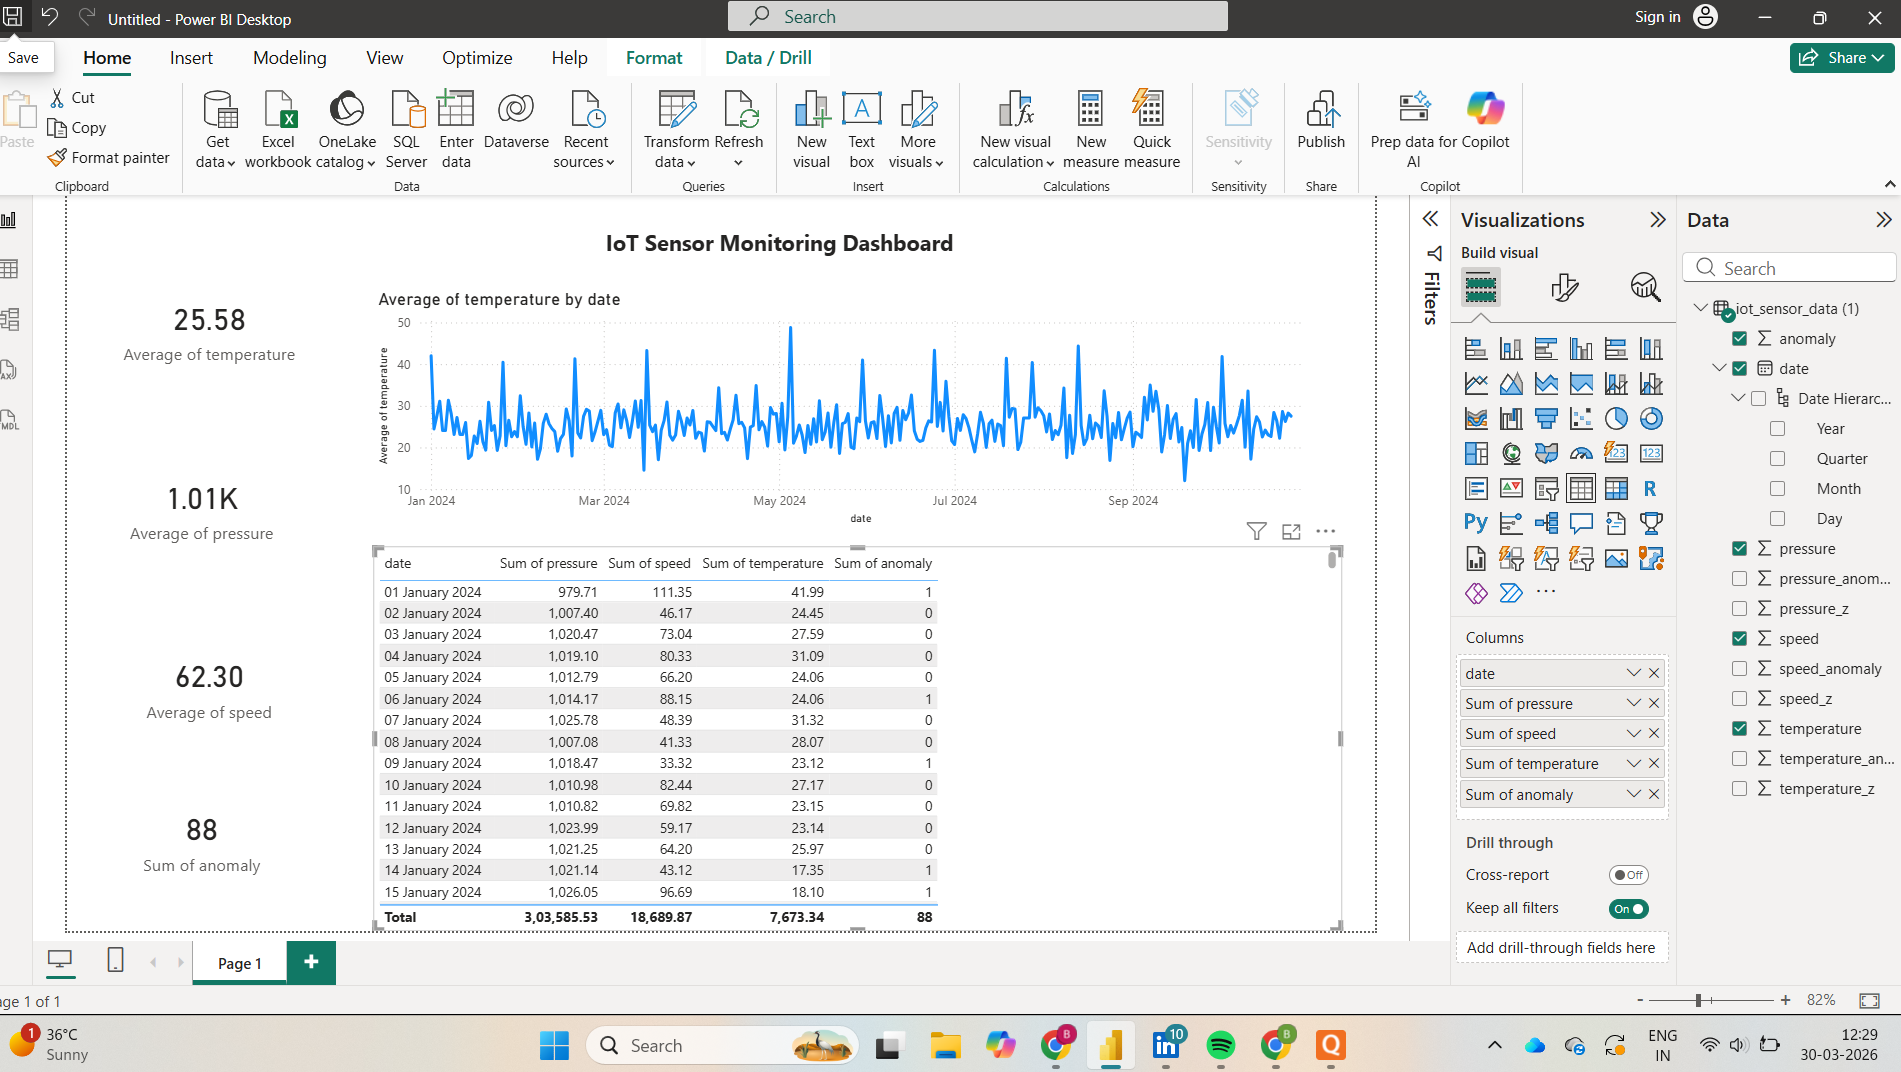

The dashboard page shown, as its layout file describes it:
{"tool":"powerbi","page":{"name":"Page 1","canvas":[1280,720],"ordinal":0},"visuals":[{"type":"textbox","box":[258,27.4,679.2,104.3],"z":4003},{"type":"card","fields":{"Values":["Avg(iot_sensor_data (1).temperature)"]},"box":[31.8,59.9,215.2,141.8],"z":4004},{"type":"card","fields":{"Values":["Avg(iot_sensor_data (1).pressure)"]},"box":[24.5,231.1,215.2,150.4],"z":4005},{"type":"card","fields":{"Values":["Avg(iot_sensor_data (1).speed)"]},"box":[31.8,406,215.2,149.2],"z":4006},{"type":"card","fields":{"Values":["Sum(iot_sensor_data (1).anomaly)"]},"box":[17.1,555.2,229.9,150.4],"z":4007},{"type":"lineChart","fields":{"Y":["Avg(iot_sensor_data (1).temperature)"],"Category":["iot_sensor_data (1).date"]},"box":[299.6,91.7,928.1,236],"z":4008},{"type":"tableEx","fields":{"Values":["iot_sensor_data (1).date","Sum(iot_sensor_data (1).pressure)","Sum(iot_sensor_data (1).speed)","Sum(iot_sensor_data (1).temperature)","Sum(iot_sensor_data (1).anomaly)"]},"box":[299.6,343.6,947.7,376.6],"z":4009}]}

Visuals, with their boxes on the page's 1280x720 design canvas (x1, y1, x2, y2). These are canvas units, not pixel positions in the 1901x1072 screenshot, which may show the page scaled, cropped or inside an application window:
textbox: (left=258, top=27, right=937, bottom=132)
card - Avg(iot_sensor_data (1).temperature): (left=32, top=60, right=247, bottom=202)
card - Avg(iot_sensor_data (1).pressure): (left=24, top=231, right=240, bottom=382)
card - Avg(iot_sensor_data (1).speed): (left=32, top=406, right=247, bottom=555)
card - Sum(iot_sensor_data (1).anomaly): (left=17, top=555, right=247, bottom=706)
lineChart - Avg(iot_sensor_data (1).temperature) x iot_sensor_data (1).date: (left=300, top=92, right=1228, bottom=328)
tableEx - iot_sensor_data (1).date x Sum(iot_sensor_data (1).pressure): (left=300, top=344, right=1247, bottom=720)
